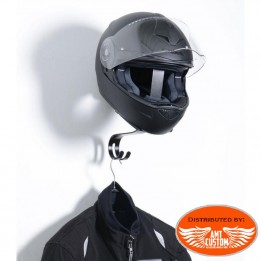with_helmet: (91, 8, 208, 139)
